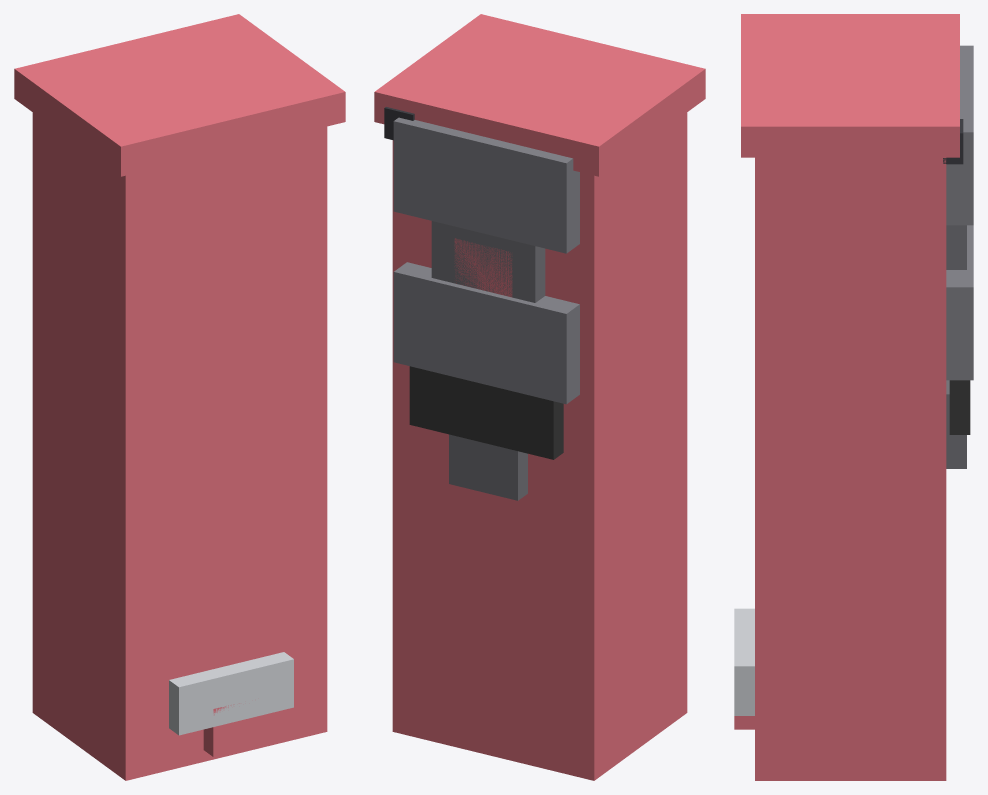
The model's file is joycon_right.gltf.
3 renders of one model, left to right at view 1: azimuth 30°, elevation 25°; view 2: azimuth 150°, elevation 25°; view 3: azimuth 270°, elevation 25°, orthographic. The views are drawn at different scales.
Parts seen in each view (by area): view 1: joycon_right; view 2: joycon_right; view 3: joycon_right.
Part boxes in pixels (left/top/right/bottom): joycon_right: left=14, top=14, right=345, bottom=780; joycon_right: left=374, top=14, right=705, bottom=780; joycon_right: left=734, top=14, right=973, bottom=780.
Bounding box in the file's own units: 0.039 × 0.1095 × 0.035.
